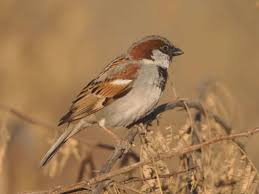hsparrow: (38, 32, 186, 169)
